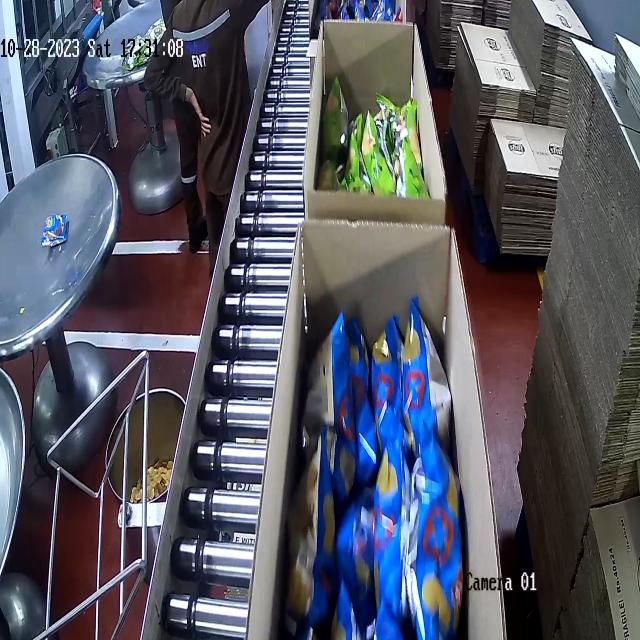PAPRIKA: (306, 303, 467, 640)
YOGURT_HERB: (323, 76, 427, 193)
